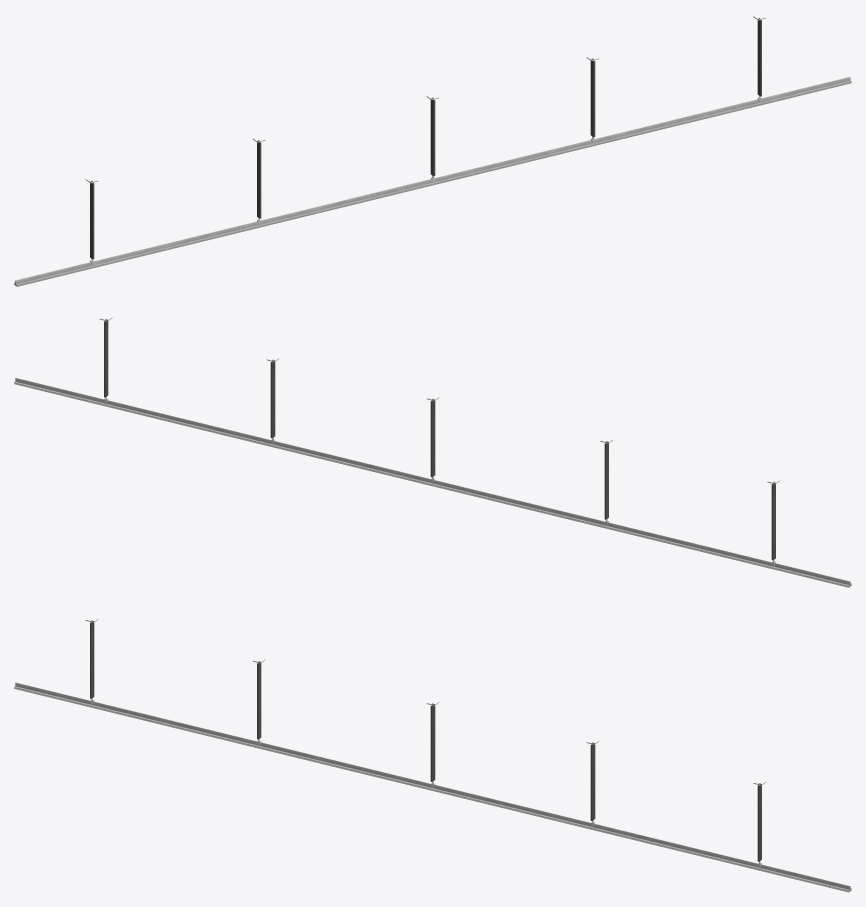
The model's file is SM_Roof_Target_Rail_Tracks_01a.glb.
The picture shows the model from 3 angles, top to bottom: view 1: azimuth 30°, elevation 25°; view 2: azimuth 150°, elevation 25°; view 3: azimuth 330°, elevation 25°; orthographic projection.
Visible parts, largest first — view 1: SM_Roof_Target_Rail_Tracks_01a; view 2: SM_Roof_Target_Rail_Tracks_01a; view 3: SM_Roof_Target_Rail_Tracks_01a.
Boxes of the visible parts, x1,y1,x2,y2 form: SM_Roof_Target_Rail_Tracks_01a: [14, 16, 851, 286]; SM_Roof_Target_Rail_Tracks_01a: [14, 317, 851, 587]; SM_Roof_Target_Rail_Tracks_01a: [14, 618, 851, 892].
Size of the model in its own units: 15 by 1.5 by 0.1469.
1 material, 1 textured.
